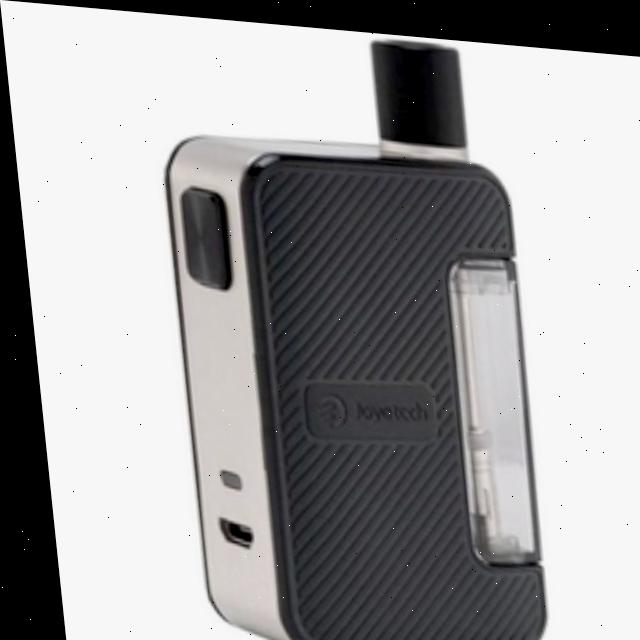vape: (145, 14, 547, 640)
